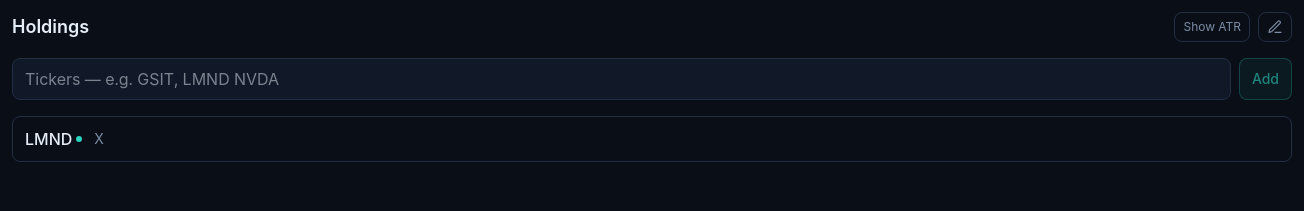
Test: hides the ATR columns and header while editing, and restores them after
The width and height of the screenshot is (1304, 211).
Click the button "Show ATR" at (1212, 27), box [1174, 12, 1250, 42]
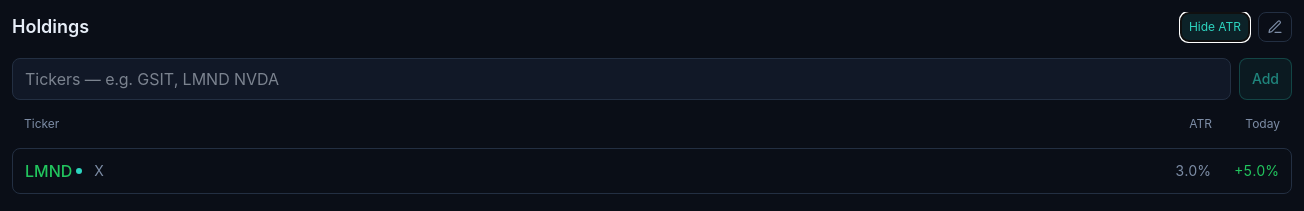
Check: the text "+5.0%" is shown, box [1234, 162, 1279, 179]
Click the button named "Edit holdings" at (1275, 27), box [1258, 12, 1292, 42]
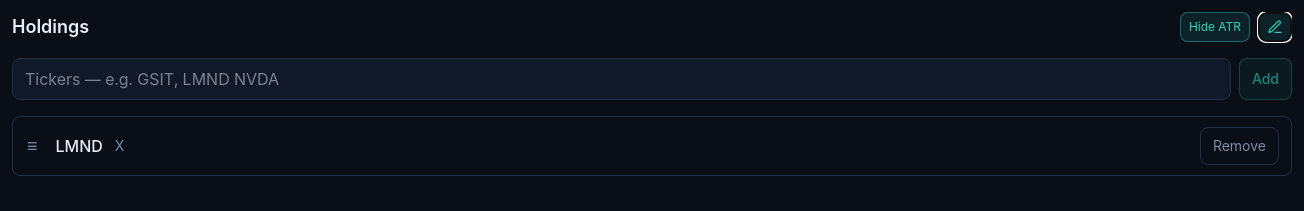
Check: the text with test id "atr-LMND" is gone
Check: the text with test id "today-LMND" is gone
Check: the element with test id "moves-header" is gone
Click the button named "Done editing" at (1275, 27), box [1258, 12, 1292, 42]
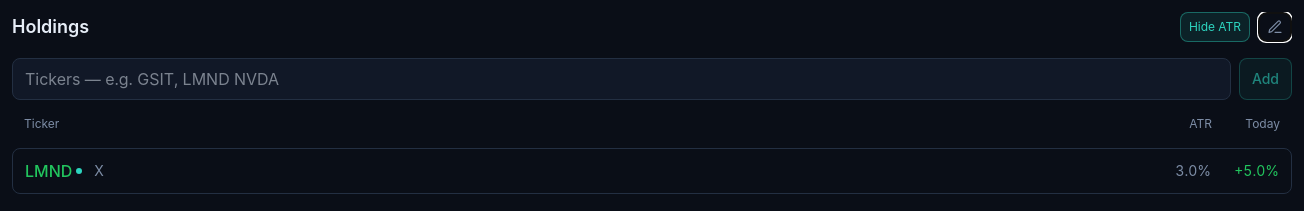
Check: the text "+5.0%" is shown, box [1234, 162, 1279, 179]
Check: the element with test id "moves-header" is shown, box [12, 116, 1292, 132]
